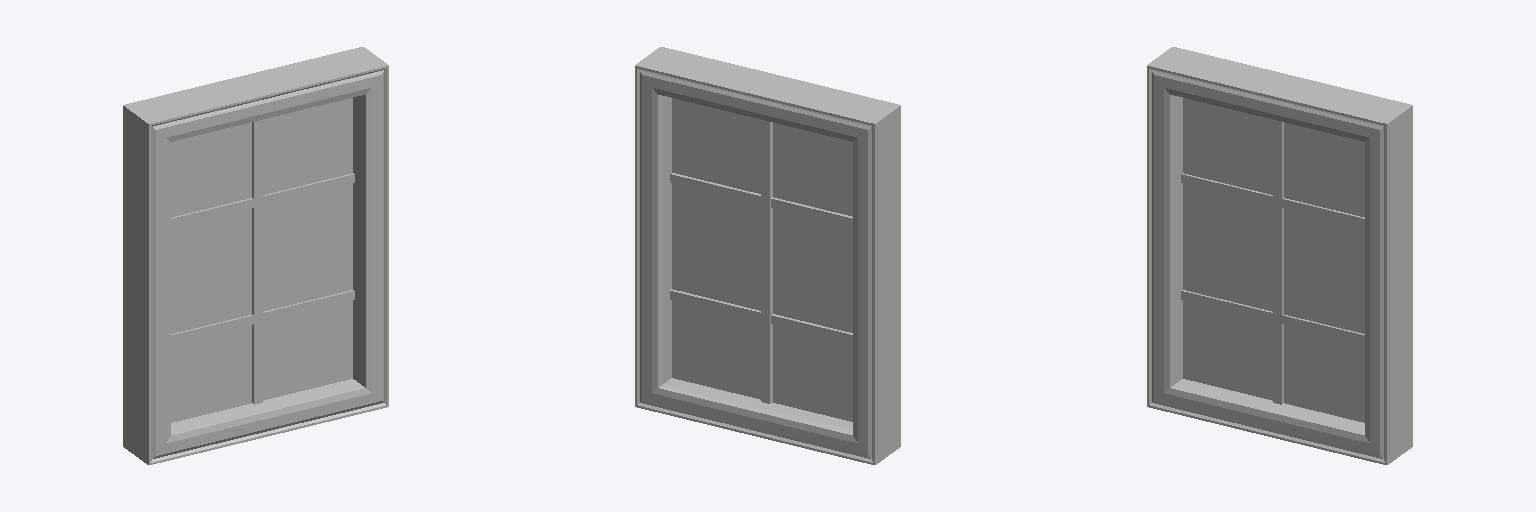
Rendered from window(1).obj.
3 views of the same model, side by side, from view 1: azimuth 30°, elevation 25°; view 2: azimuth 150°, elevation 25°; view 3: azimuth 330°, elevation 25° (orthographic).
Parts seen in each view (by area): view 1: Office_Window_3M_Small.001, Cube.001; view 2: Office_Window_3M_Small.001, Cube.001; view 3: Office_Window_3M_Small.001, Cube.001.
Boxes of the visible parts, <box> form: Office_Window_3M_Small.001: <box>123,47,388,464</box>; Cube.001: <box>171,98,352,422</box>; Office_Window_3M_Small.001: <box>635,47,900,464</box>; Cube.001: <box>672,98,852,421</box>; Office_Window_3M_Small.001: <box>1147,47,1412,464</box>; Cube.001: <box>1183,98,1364,422</box>.
Size of the model in its own units: 1.38 by 1.88 by 0.2597.